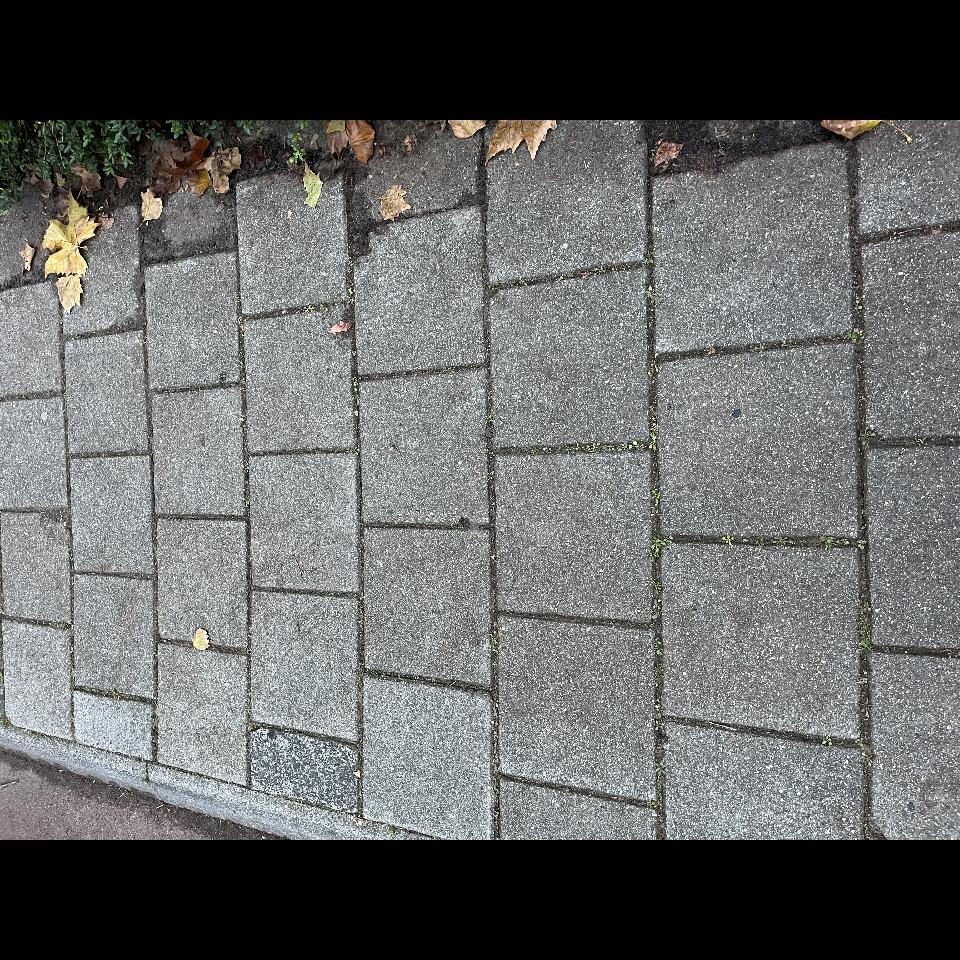weed: (347, 758, 688, 802), (0, 768, 346, 796), (92, 782, 125, 960), (294, 793, 305, 885), (548, 615, 564, 669), (291, 894, 304, 960)
